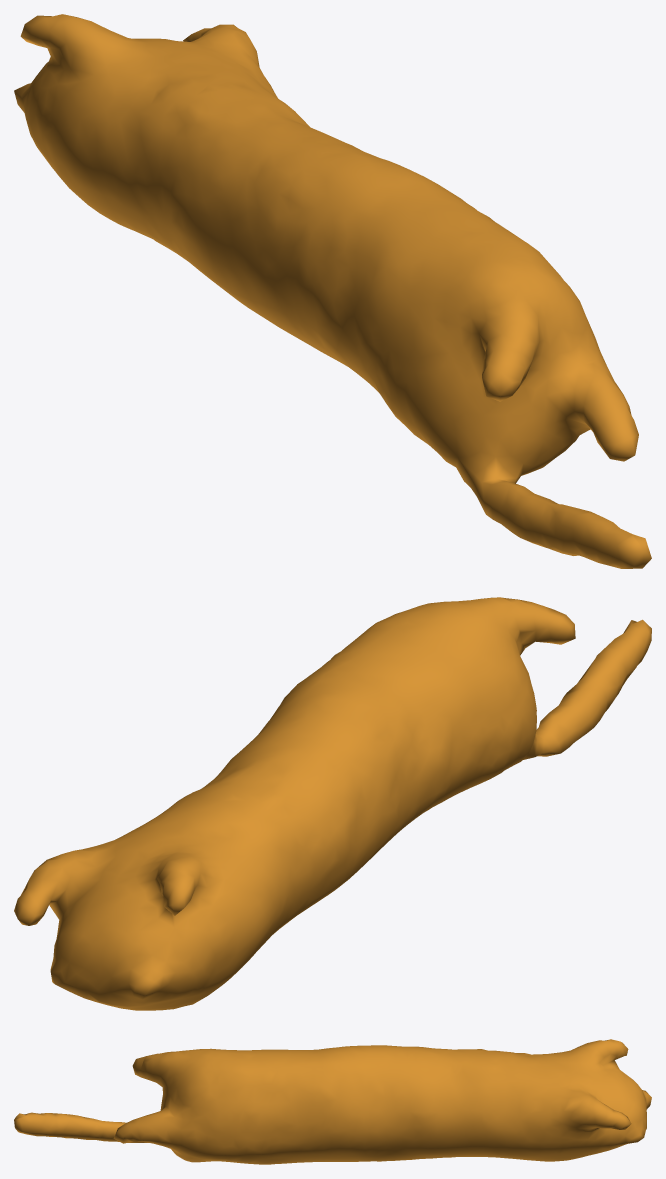
Rendered from longcat.glb.
3 views of the same model, one above another, from view 1: azimuth 30°, elevation 25°; view 2: azimuth 150°, elevation 25°; view 3: azimuth 270°, elevation 25° (orthographic). The views are drawn at different scales.
Visible parts, largest first — view 1: LongCat; view 2: LongCat; view 3: LongCat.
Part boxes in pixels (<box>): LongCat: <box>14,14,651,568</box>; LongCat: <box>14,597,651,1010</box>; LongCat: <box>14,1039,651,1164</box>.
Bounding box in the file's own units: 0.1212 × 0.1073 × 0.5799.
